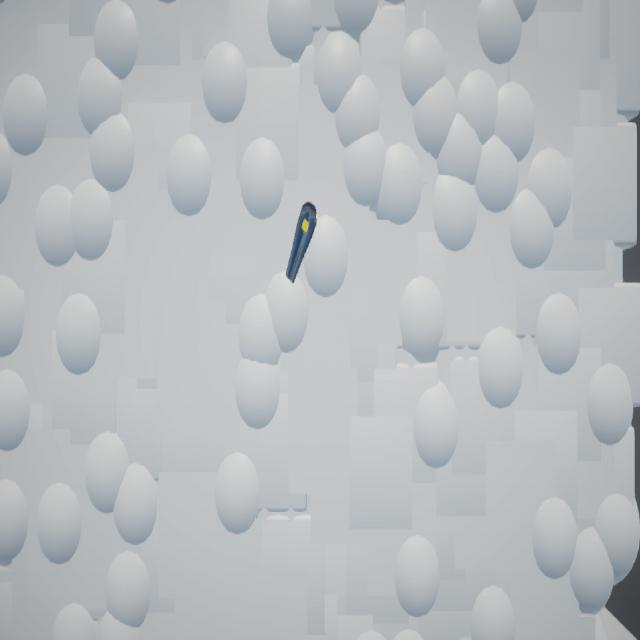handle_knife: (286, 203, 318, 285)
